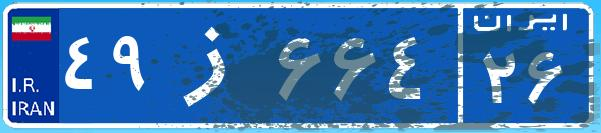2: (475, 38, 525, 113)
4: (385, 28, 445, 110), (57, 26, 110, 107)
6: (273, 28, 330, 110), (330, 28, 385, 110), (525, 38, 570, 115)
9: (110, 28, 158, 105)
ز: (158, 15, 273, 115)
